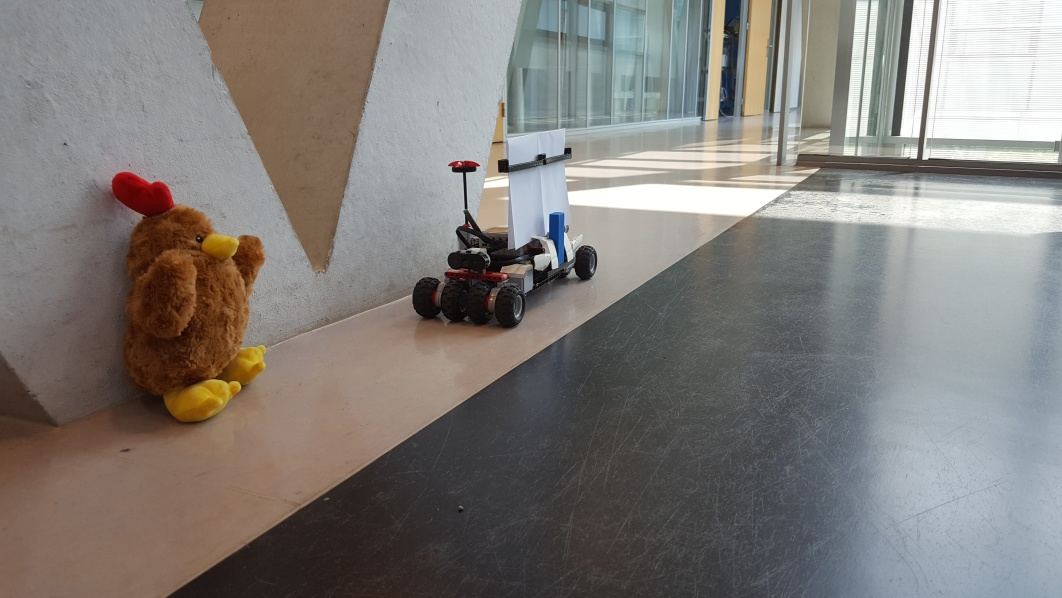beam: (543, 210, 567, 269)
chicken: (107, 168, 268, 424)
